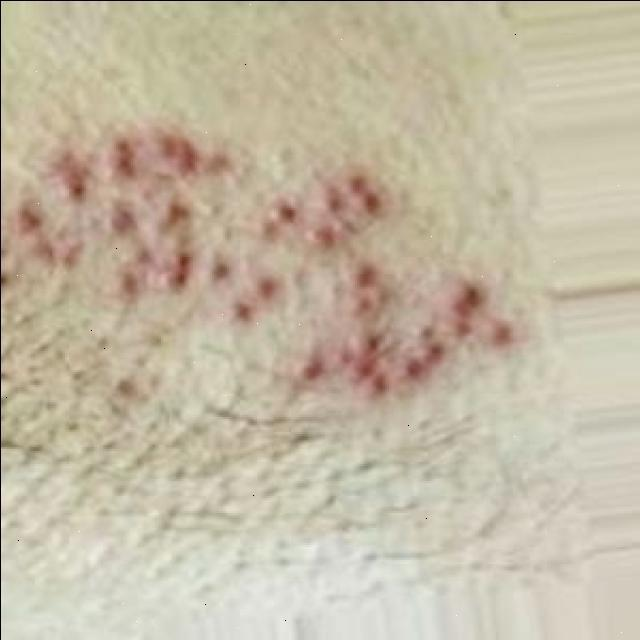Shingles: (0, 128, 519, 397)
